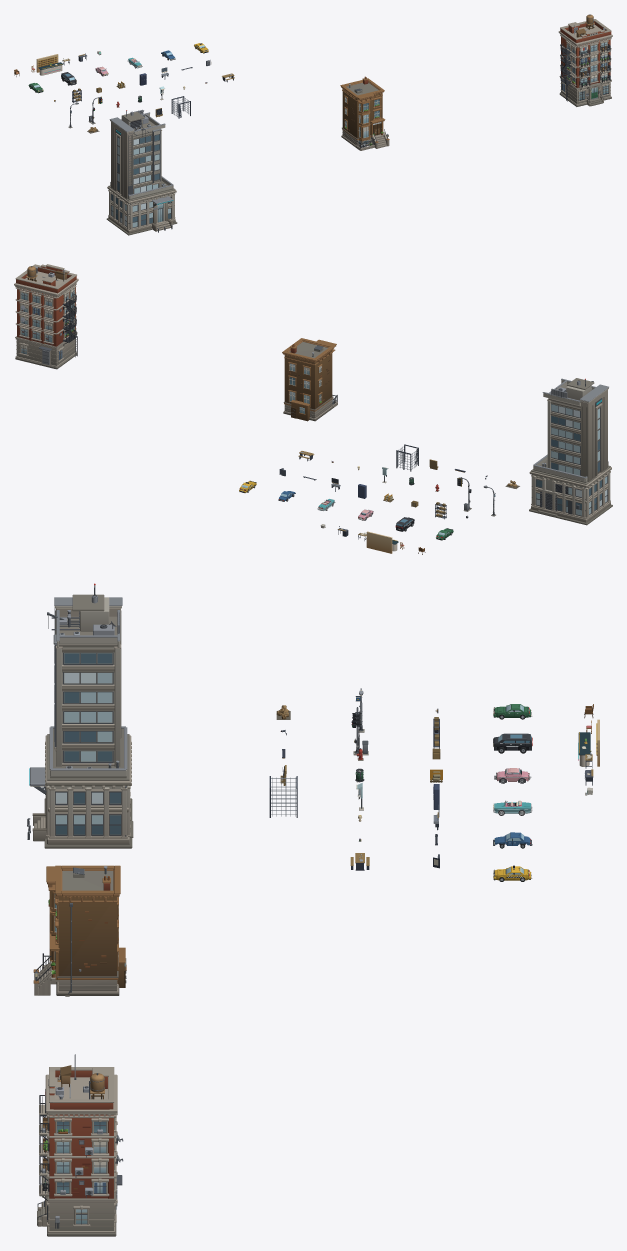
File: library.glb
3 renders of one model, top to bottom at view 1: azimuth 30°, elevation 25°; view 2: azimuth 150°, elevation 25°; view 3: azimuth 270°, elevation 25°, orthographic. The views are drawn at different scales.
Visible parts, largest first — view 1: office_tower_01, apartment_block_01, brownstone_01, lobby_reception_desk; view 2: office_tower_01, apartment_block_01, brownstone_01, lobby_reception_desk; view 3: office_tower_01, apartment_block_01, brownstone_01.
Boxes of the visible parts, <box> form: office_tower_01: <box>106,109,177,235</box>; apartment_block_01: <box>558,14,612,106</box>; brownstone_01: <box>340,76,389,150</box>; lobby_reception_desk: <box>36,54,63,75</box>; office_tower_01: <box>529,378,612,525</box>; apartment_block_01: <box>14,264,78,369</box>; brownstone_01: <box>282,338,337,421</box>; lobby_reception_desk: <box>366,531,398,553</box>; office_tower_01: <box>27,583,133,848</box>; apartment_block_01: <box>37,1054,123,1236</box>; brownstone_01: <box>33,865,126,996</box>.
Size of the model in its own units: 88.26 by 19.76 by 45.01.
